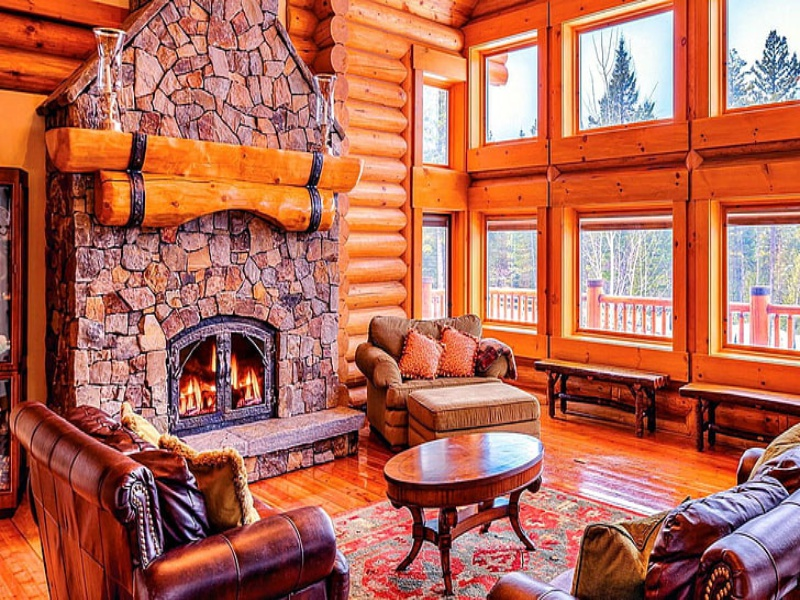fire: (173, 343, 269, 422)
